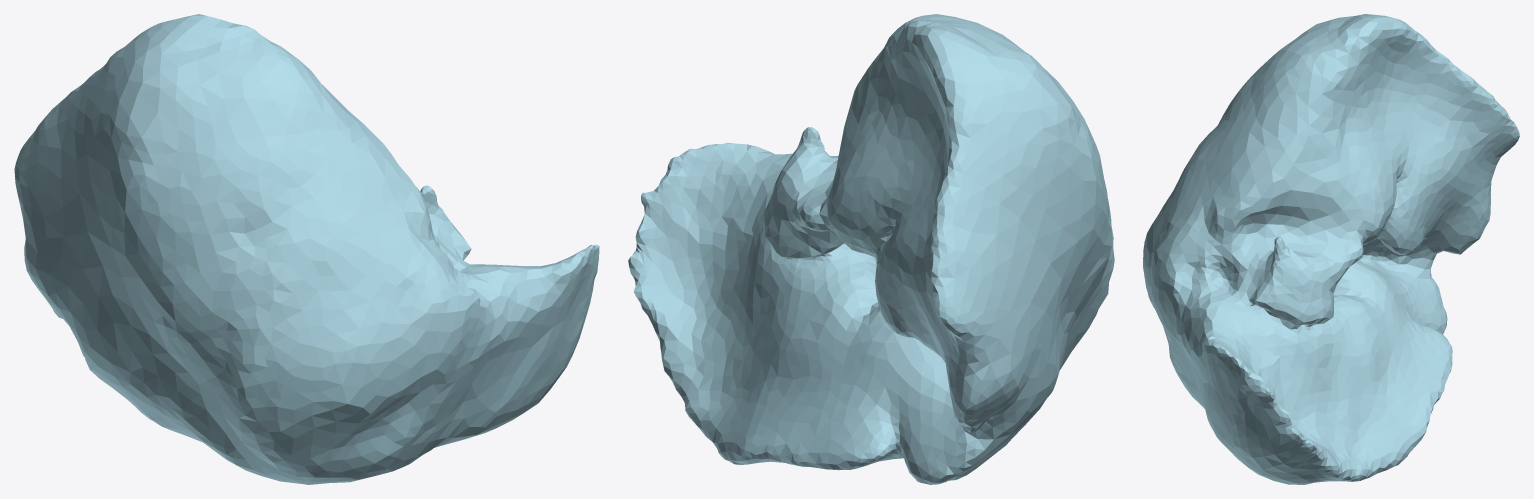
Rendered from liver.obj.
3 views of the same model, side by side, from view 1: azimuth 30°, elevation 25°; view 2: azimuth 150°, elevation 25°; view 3: azimuth 270°, elevation 25° (orthographic). The views are drawn at different scales.
Parts seen in each view (by area): view 1: grp1; view 2: grp1; view 3: grp1.
Part boxes in pixels (box(x1,y1,x2,y2)): grp1: box(14, 14, 599, 484); grp1: box(628, 14, 1114, 484); grp1: box(1143, 14, 1519, 484).
Bounding box in the file's own units: 209 × 193 × 177.
